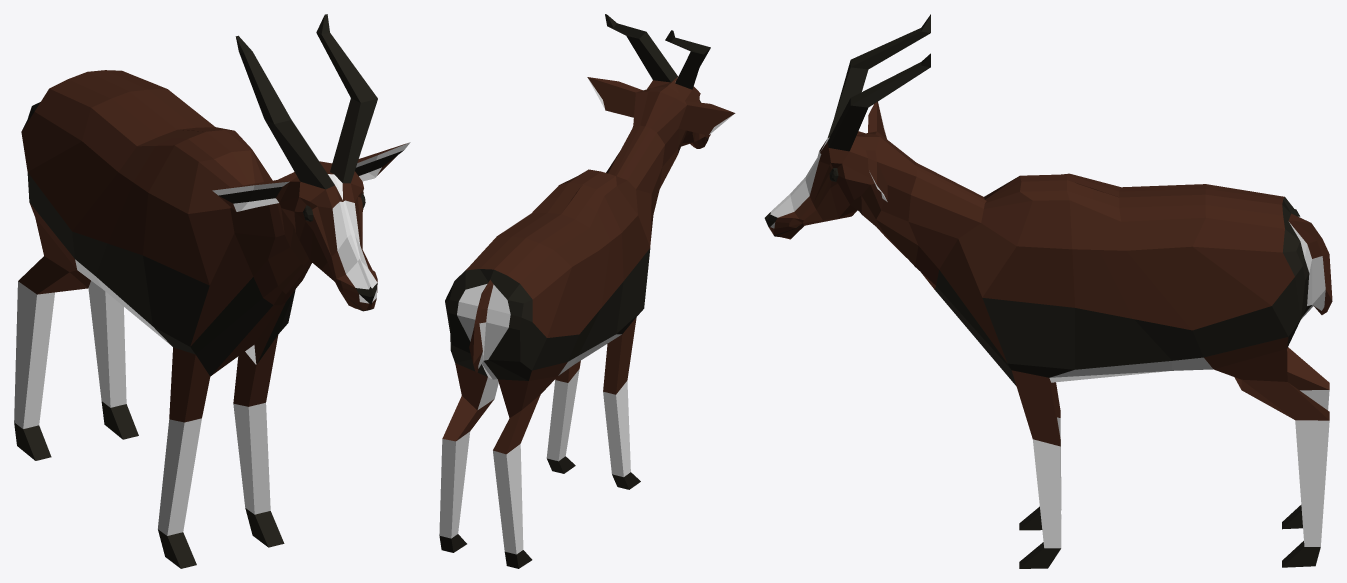
File: bontebok.fbx
3 views of the same model, side by side, from view 1: azimuth 30°, elevation 25°; view 2: azimuth 150°, elevation 25°; view 3: azimuth 270°, elevation 25° (orthographic). The views are drawn at different scales.
Parts seen in each view (by area): view 1: Plane.001; view 2: Plane.001; view 3: Plane.001.
Boxes of the visible parts, bbox=[...] form: Plane.001: bbox=[14, 14, 410, 568]; Plane.001: bbox=[439, 14, 735, 568]; Plane.001: bbox=[764, 14, 1332, 568].
Size of the model in its own units: 44.03 by 120 by 121.
